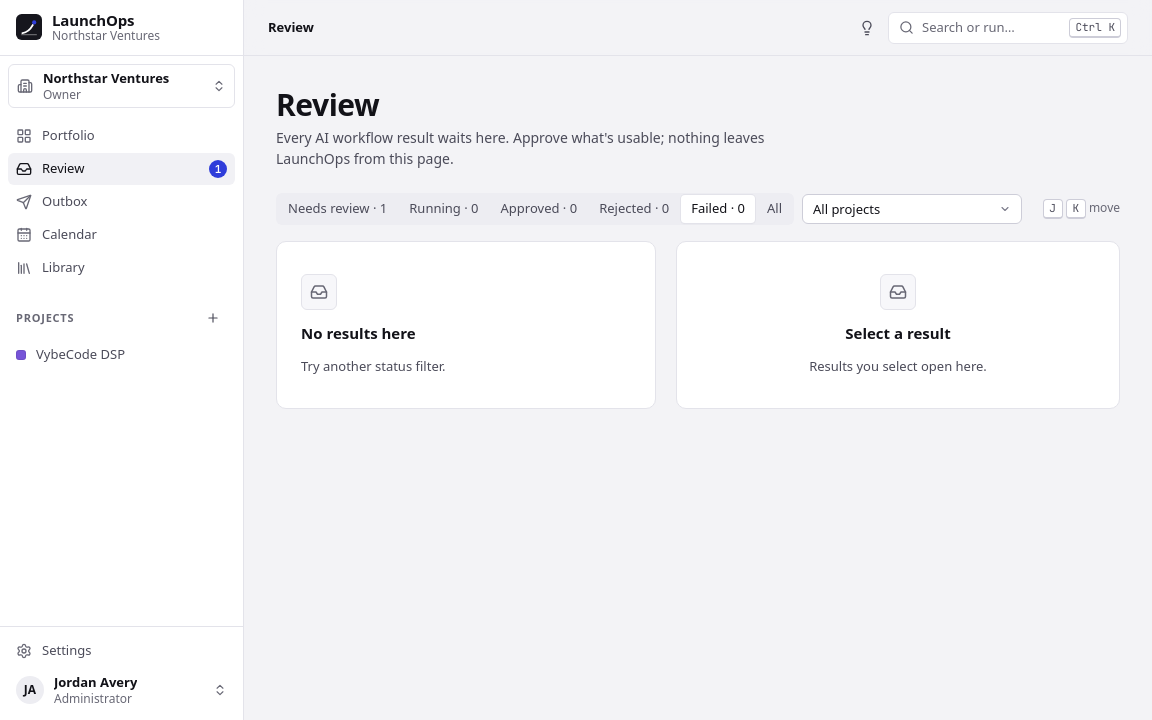
Test: Review across projects › says when a status has no results
expect the text "No results here" is shown: met, box [301,322,416,344]
expect the text "Try another status filter." is shown: met, box [301,356,446,376]
Click the button "Needs review · 1" at (338, 209), box [278,195,397,223]
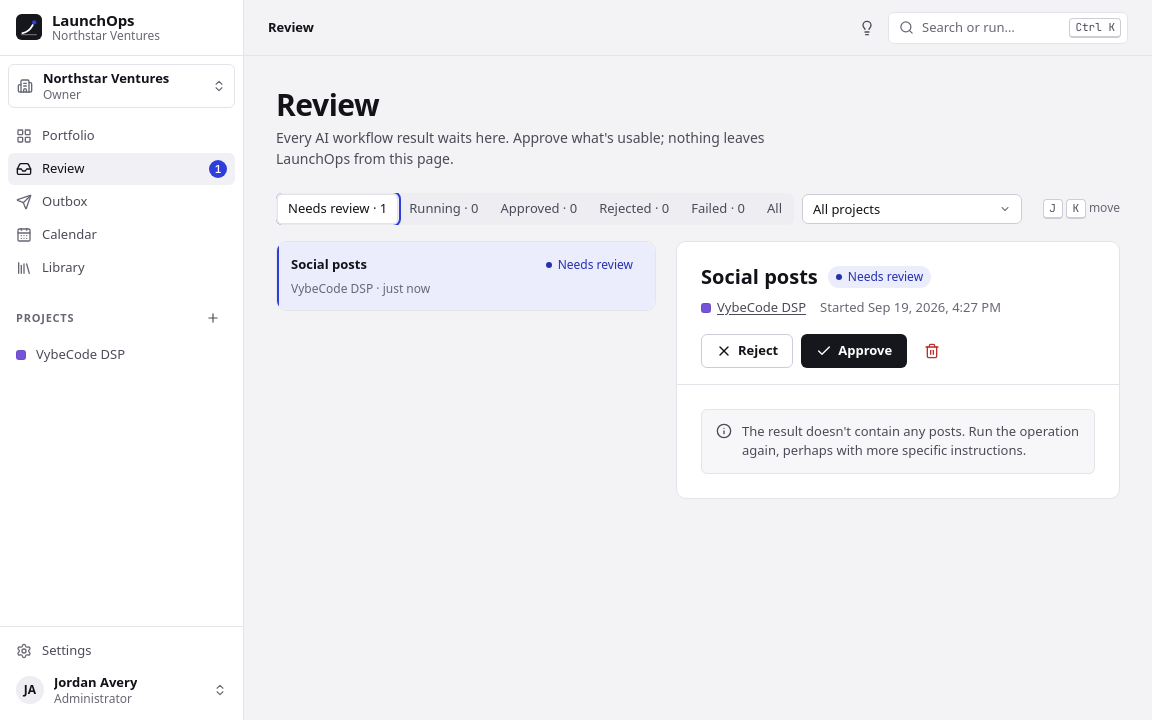
expect the link "Social posts Needs review VybeCode DSP · just now" is shown: met, box [277,242,655,310]
